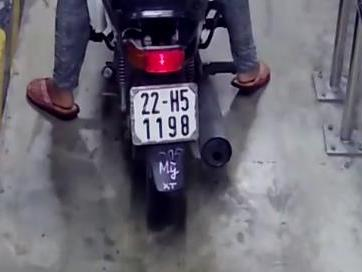num_plate: (131, 83, 199, 144)
